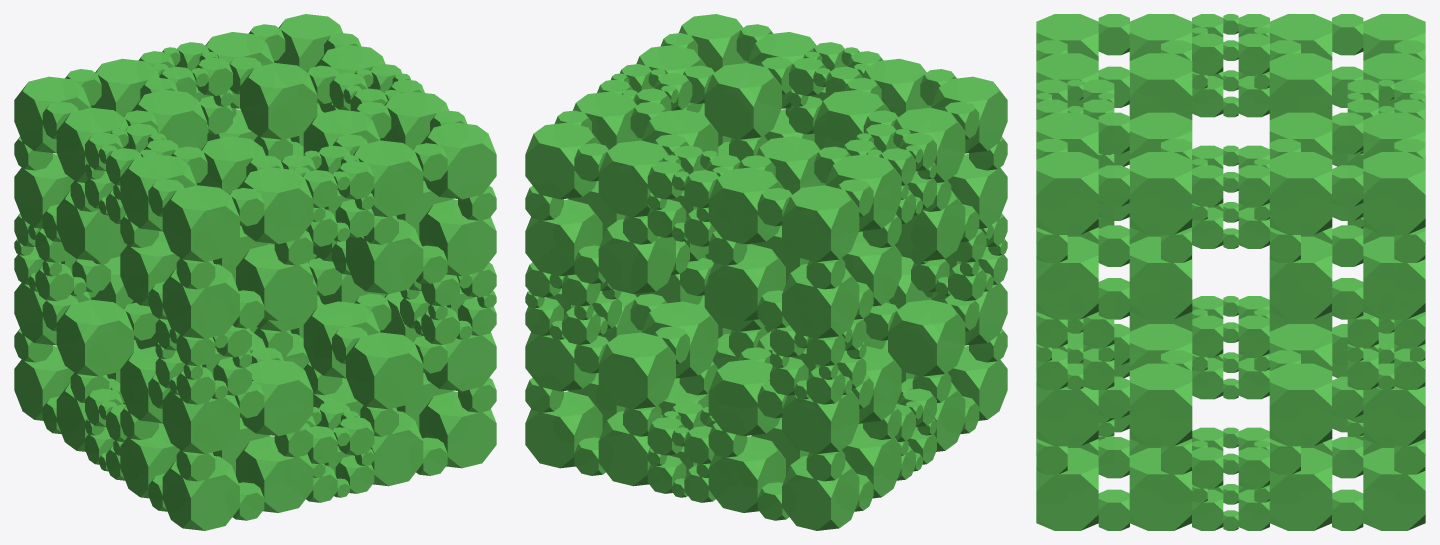
Rendered from fractaltruncatedcube2-2.glb.
3 views of the same model, side by side, from view 1: azimuth 30°, elevation 25°; view 2: azimuth 150°, elevation 25°; view 3: azimuth 270°, elevation 25° (orthographic). The views are drawn at different scales.
Bounding box in the file's own units: 7.2 × 7.2 × 7.2.
